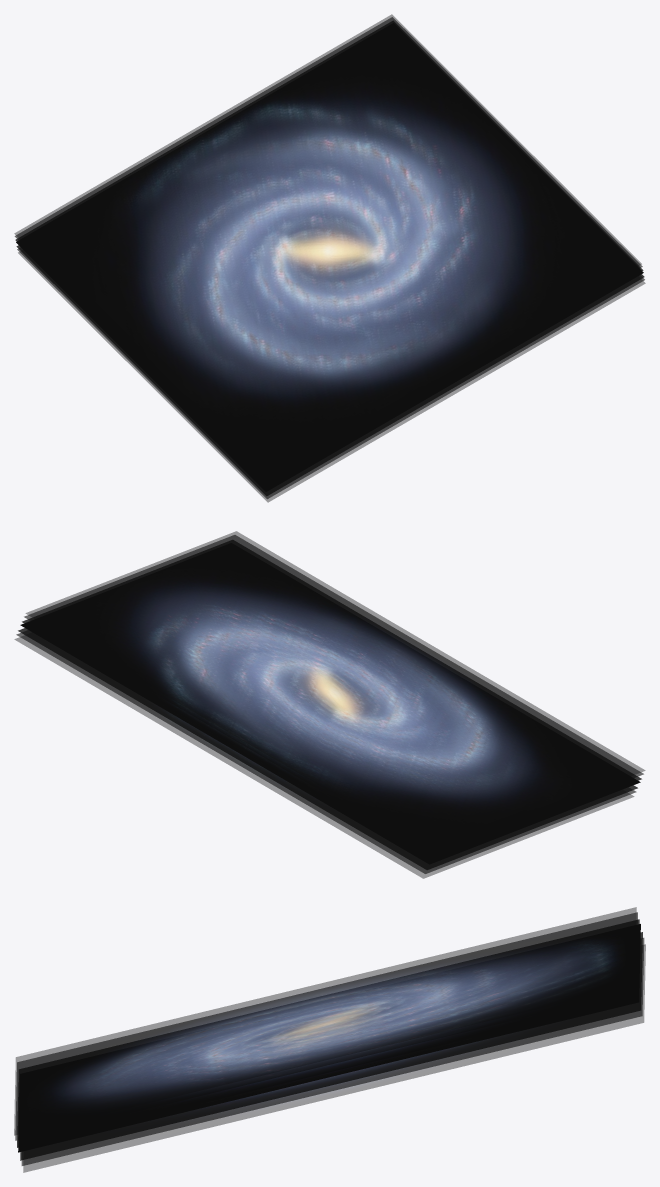
The picture shows the model from 3 angles, top to bottom: view 1: azimuth 30°, elevation 25°; view 2: azimuth 150°, elevation 25°; view 3: azimuth 270°, elevation 25°; orthographic projection. The views are drawn at different scales.
Parts seen in each view (by area): view 1: Object_5, Object_3, Object_4, Object_2; view 2: Object_5, Object_3, Object_4, Object_2; view 3: Object_5, Object_3, Object_4, Object_2.
Boxes of the visible parts, box(x1,y1,x2,y2) form: Object_5: box(14, 14, 645, 502); Object_3: box(15, 21, 644, 496); Object_4: box(15, 17, 644, 498); Object_2: box(16, 241, 643, 491); Object_5: box(14, 531, 645, 878); Object_3: box(18, 540, 641, 870); Object_4: box(16, 535, 643, 873); Object_2: box(20, 621, 640, 864); Object_5: box(14, 907, 645, 1172); Object_3: box(17, 919, 642, 1160); Object_4: box(15, 912, 644, 1165); Object_2: box(18, 924, 640, 1152).
Bounding box in the file's own units: 959 × 545 × 912.
Materials: 4 (4 with a texture image).
